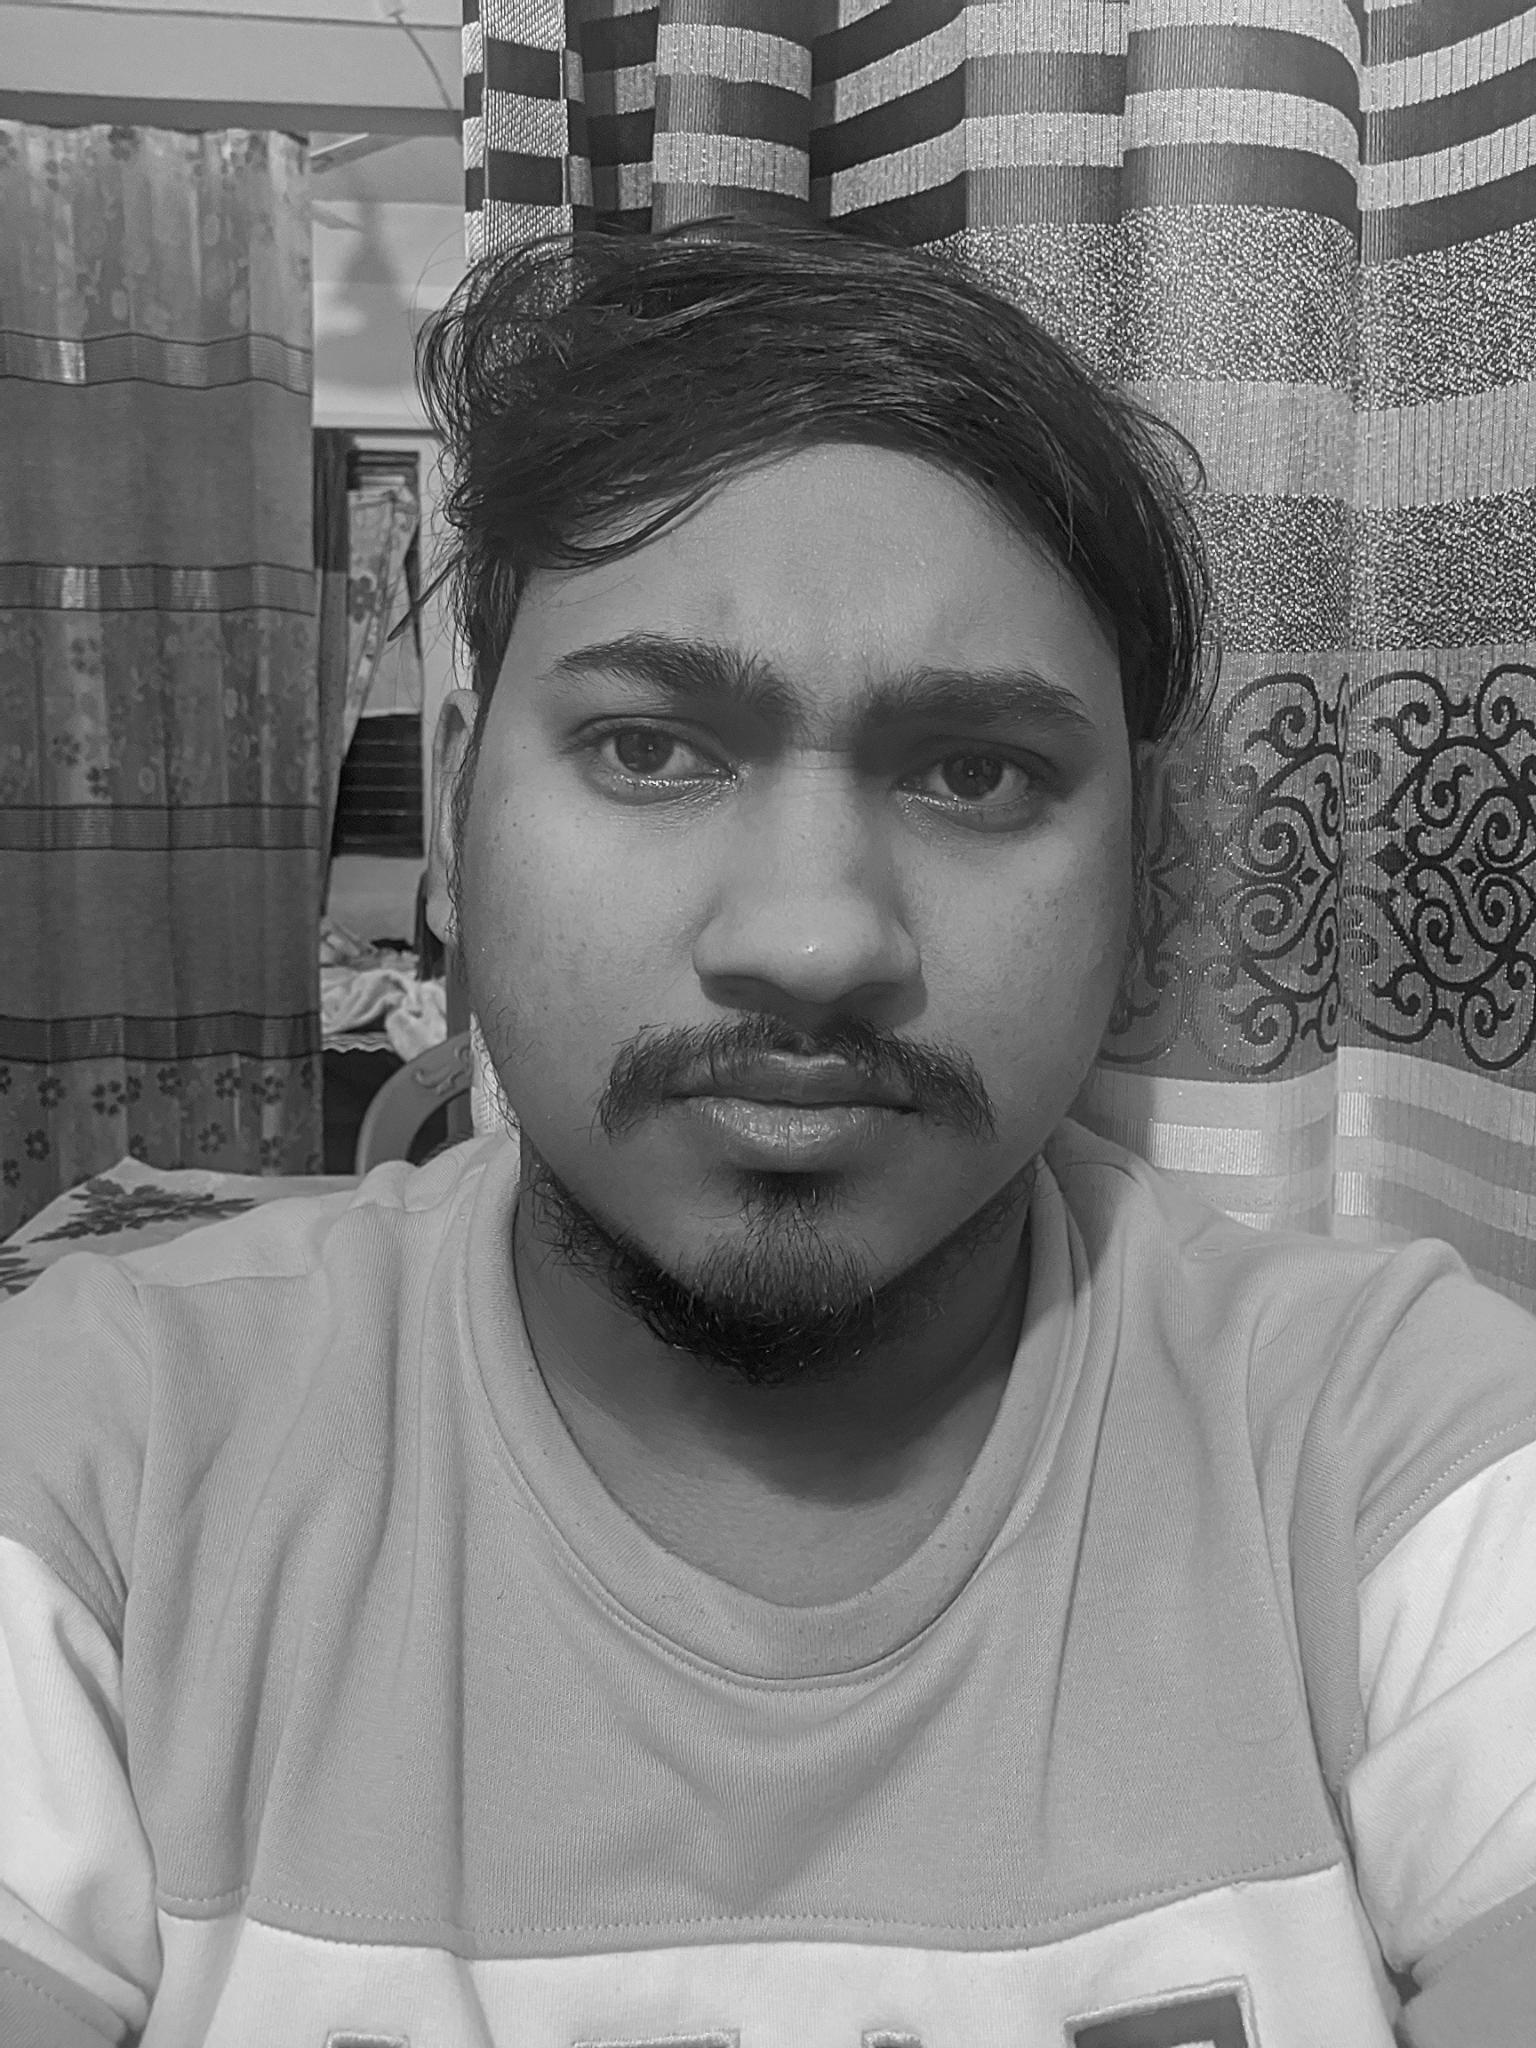Angry: (486, 516, 1149, 1293)
